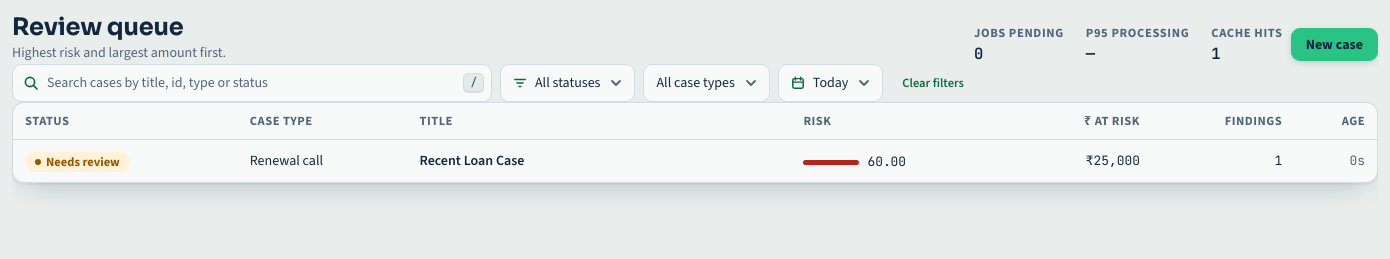
Test: Queue component date filtering › renders review queue and filters by date
Expected: the text "Recent Loan Case" is shown, left=408, top=139, right=792, bottom=182
Expected: the text "Historic Policy Case" is not shown
Click the button "Clear filters".
click(933, 83)  # box left=891, top=70, right=975, bottom=96
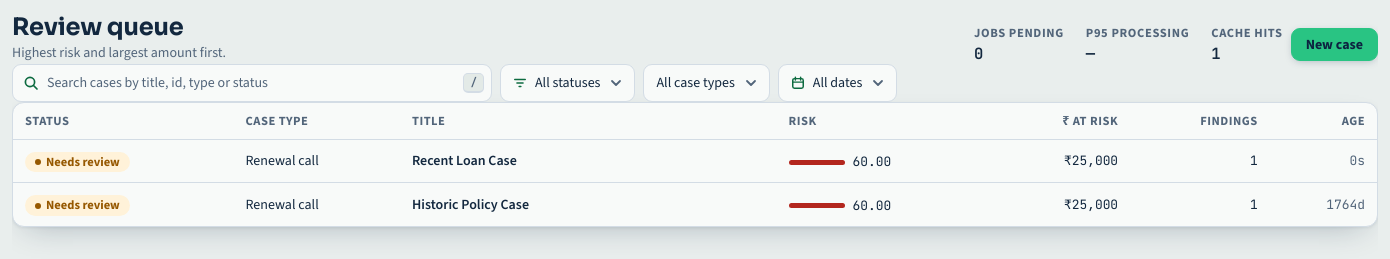
Result: the text "Historic Policy Case" is shown at left=400, top=183, right=776, bottom=226
